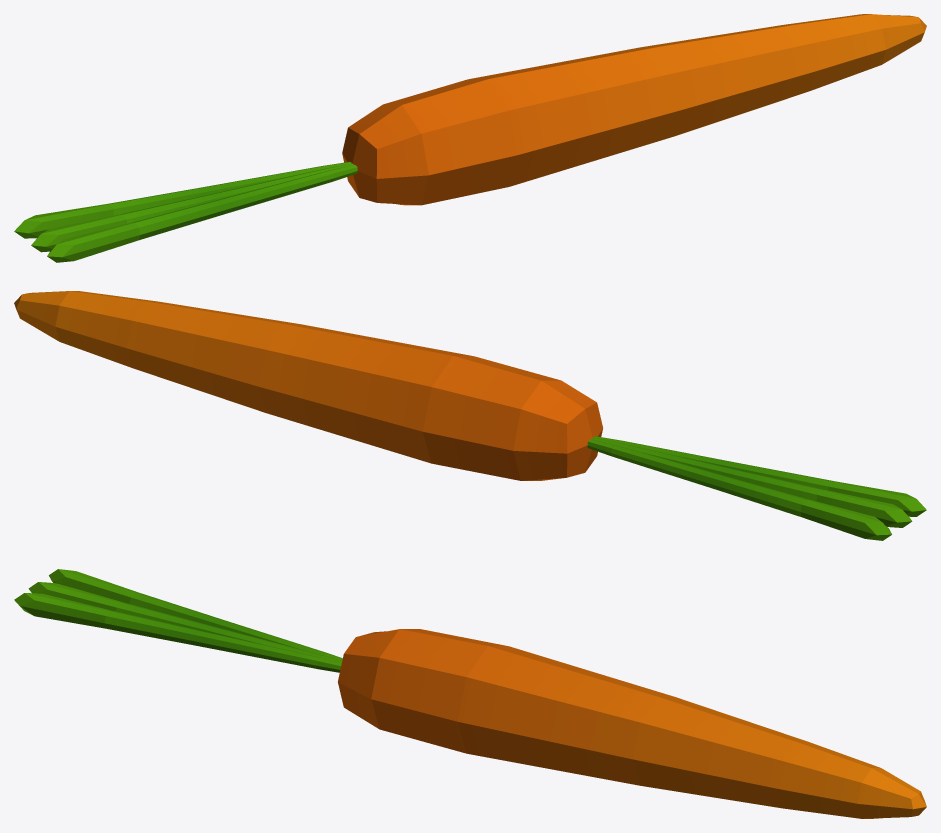
Rendered from carrot_1.glb.
3 views of the same model, one above another, from view 1: azimuth 30°, elevation 25°; view 2: azimuth 150°, elevation 25°; view 3: azimuth 330°, elevation 25° (orthographic).
Parts seen in each view (by area): view 1: carrot_1; view 2: carrot_1; view 3: carrot_1.
Boxes of the visible parts, <box> form: carrot_1: <box>14,14,926,262</box>; carrot_1: <box>14,291,926,540</box>; carrot_1: <box>14,569,926,818</box>.
Size of the model in its own units: 0.3999 by 0.0461 by 0.0461.
1 material, 1 textured.
